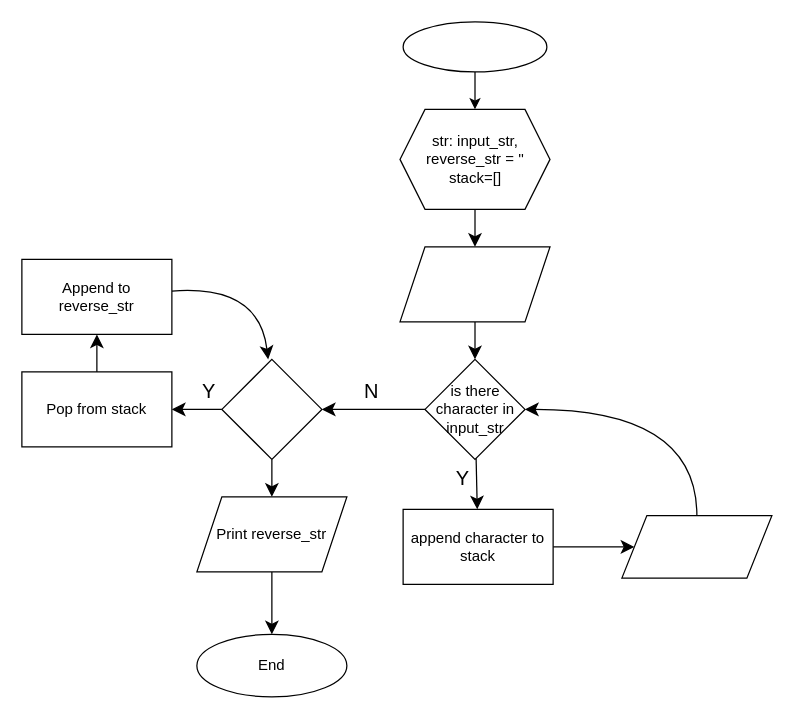
Some shapes in this 794 by 719 pixel diagram are drawn without their labels. The shapes that lost their labels are listed below. From the top down, each one's centre as x and y in pixels, then its label:
At [474,46]: "Start".
At [474,284]: "input: input_str".
At [271,408]: "len(stack) > 0".
At [696,546]: "output: stack".
